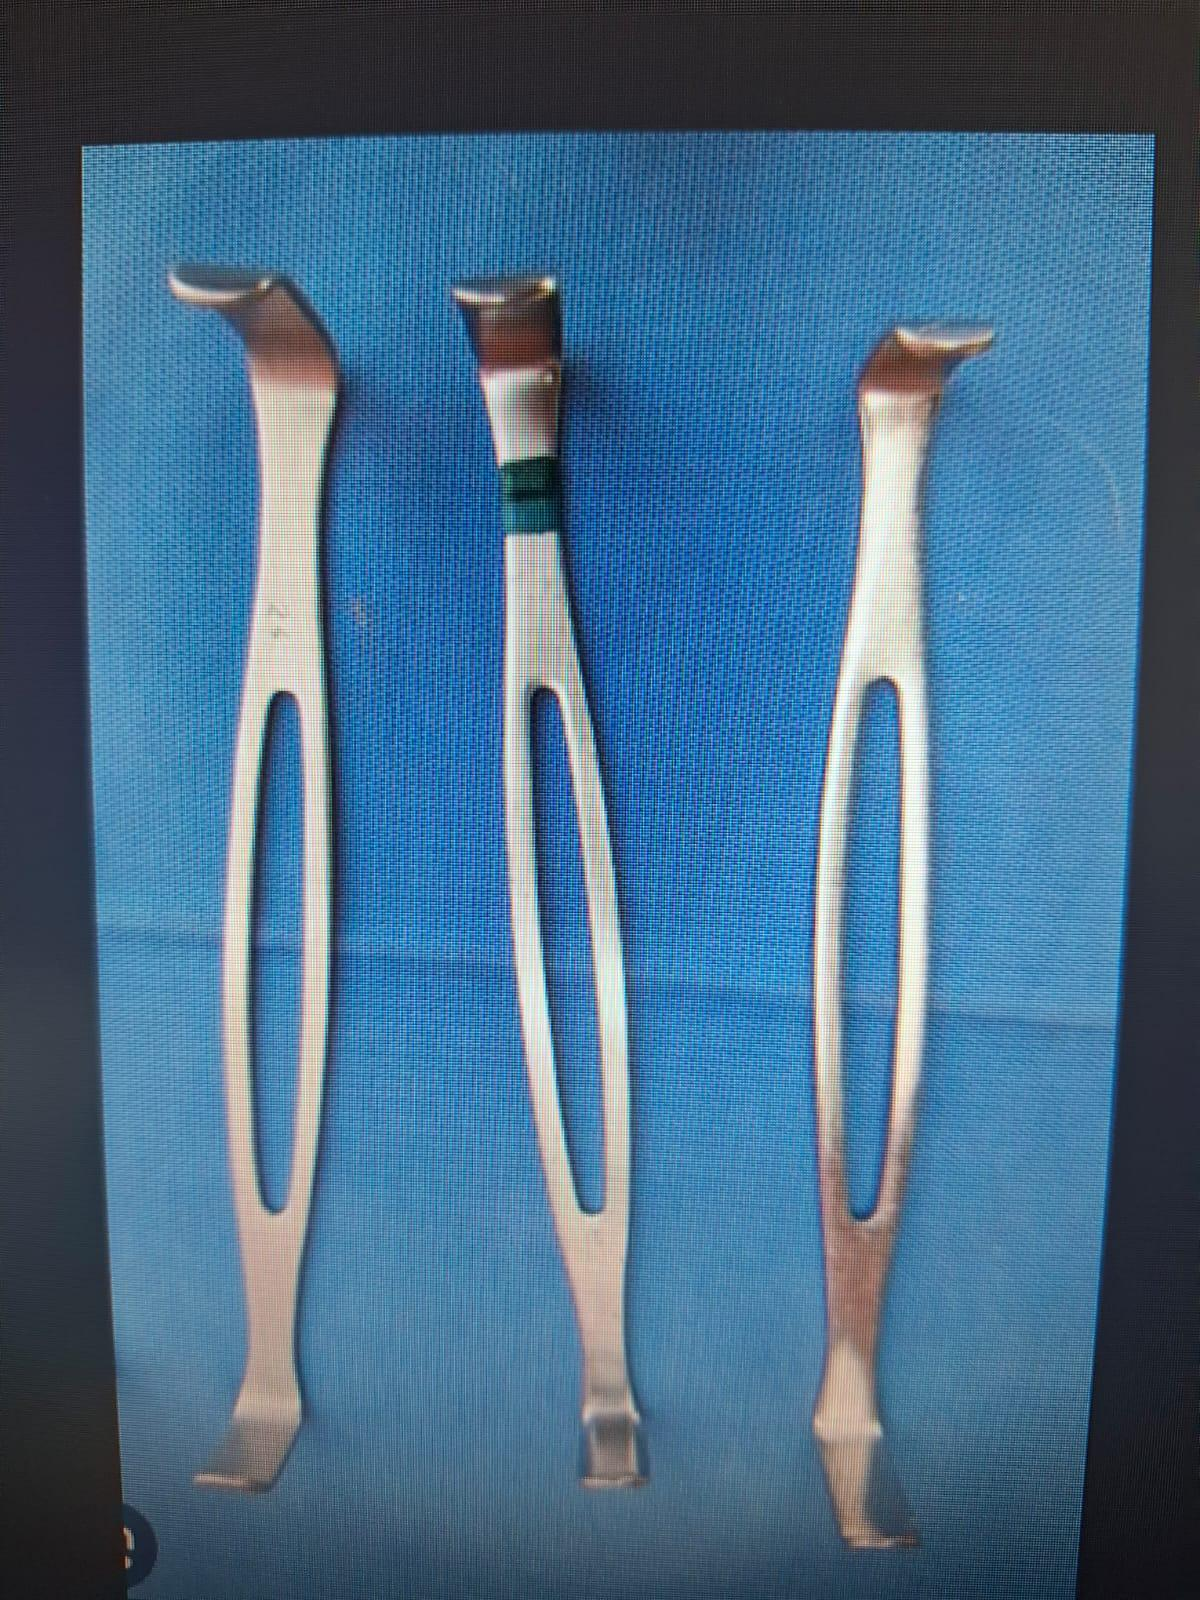Army Navy Retractor: (145, 238, 398, 1512), (782, 318, 1015, 1565)
